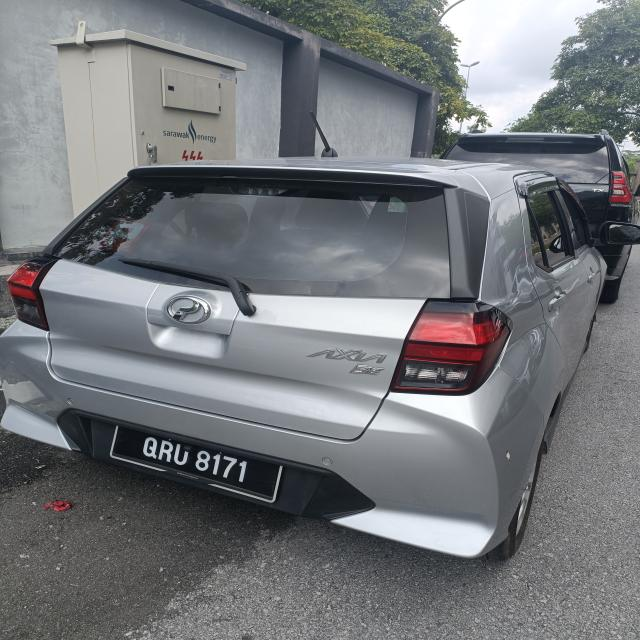PeroduaAxia: (1, 152, 618, 562)
